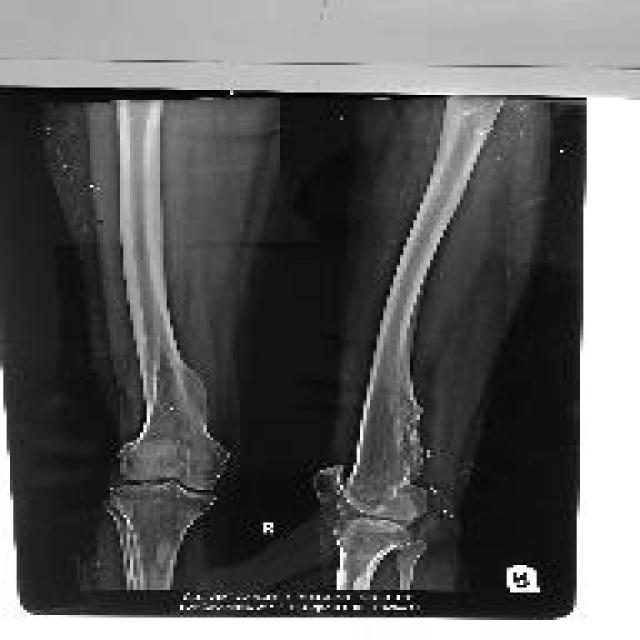bone-cancer: (352, 395, 430, 523), (158, 358, 209, 467)
